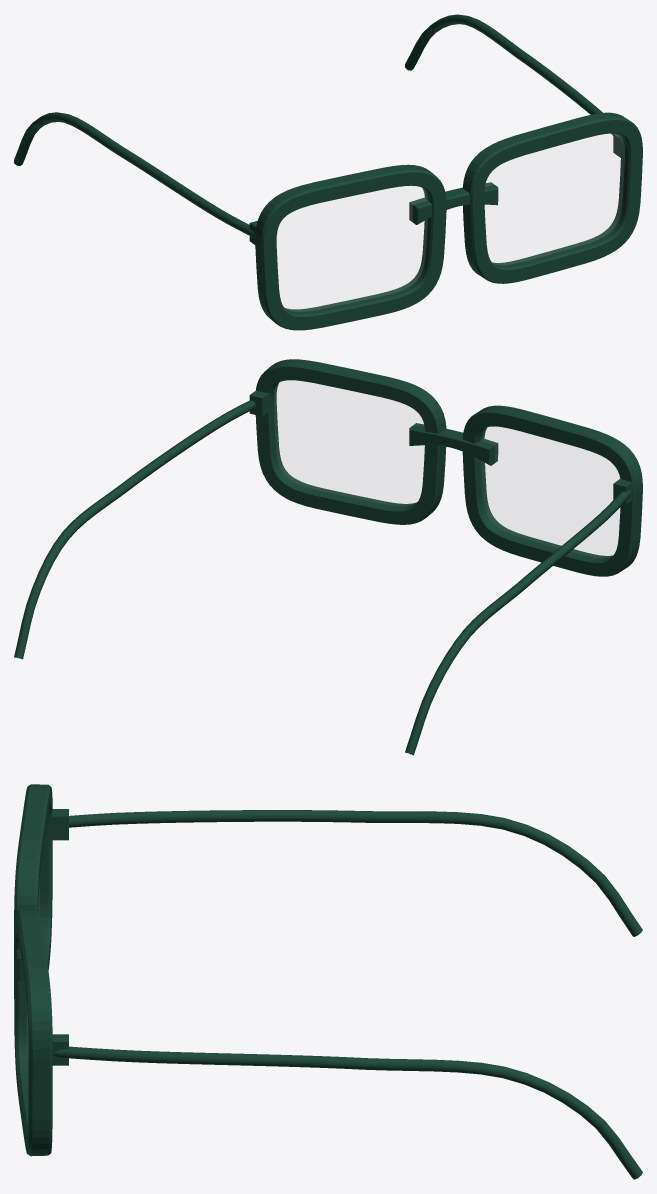
Rendered from BM-M01_Arlo_Bottle_green.glb.
The picture shows the model from 3 angles, top to bottom: view 1: azimuth 30°, elevation 25°; view 2: azimuth 150°, elevation 25°; view 3: azimuth 270°, elevation 25°; orthographic projection. The views are drawn at different scales.
Visible parts, largest first — view 1: Arlo_Bottle_green_Acetate, Arlo_Bottle_green_Lenses; view 2: Arlo_Bottle_green_Acetate, Arlo_Bottle_green_Lenses; view 3: Arlo_Bottle_green_Acetate.
Boxes of the visible parts, x1,y1,x2,y2 form: Arlo_Bottle_green_Acetate: (14,14,642,330); Arlo_Bottle_green_Lenses: (277,134,623,311); Arlo_Bottle_green_Acetate: (14,359,642,755); Arlo_Bottle_green_Lenses: (274,381,619,557); Arlo_Bottle_green_Acetate: (14,784,642,1179).
Size of the model in its own units: 0.1442 by 0.0474 by 0.1509.
